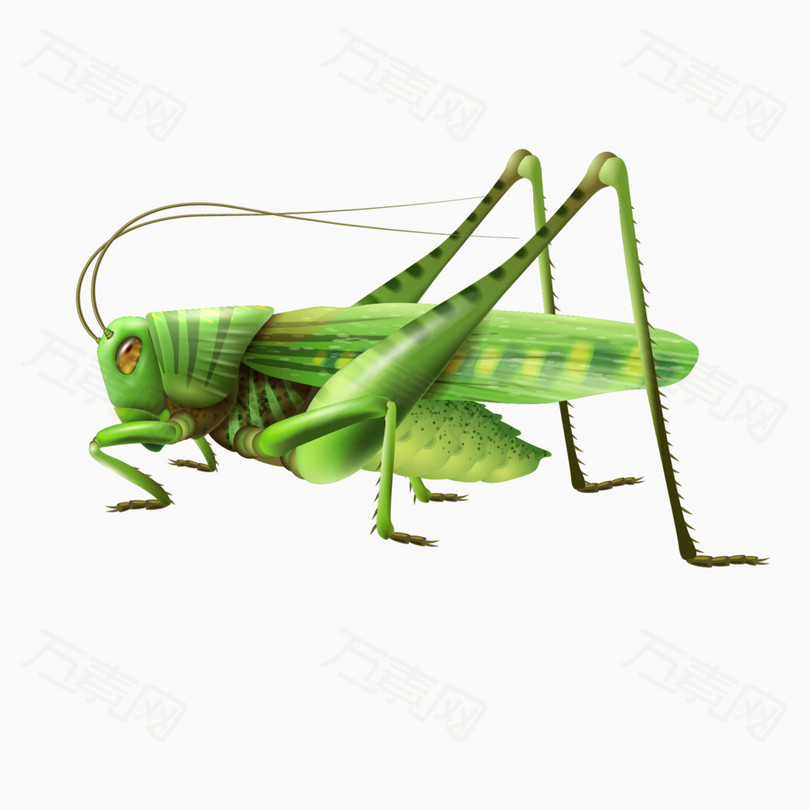huangchong: (63, 179, 746, 555)
